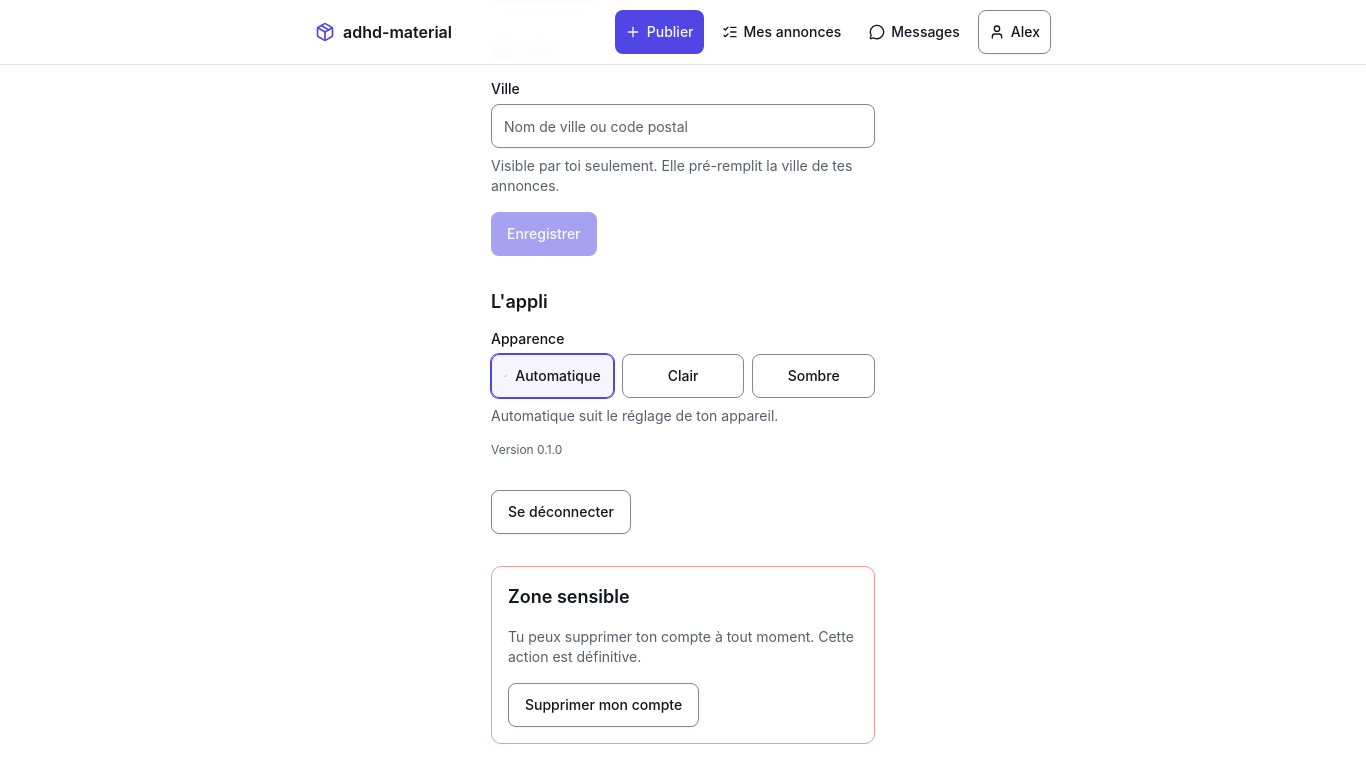
Test: flux email désactivé (Google uniquement) › ré-authentification : Google seulement, pas d'option code
(page scrolled)
Click the button "Supprimer mon compte" at (604, 705), box [508,683,699,727]
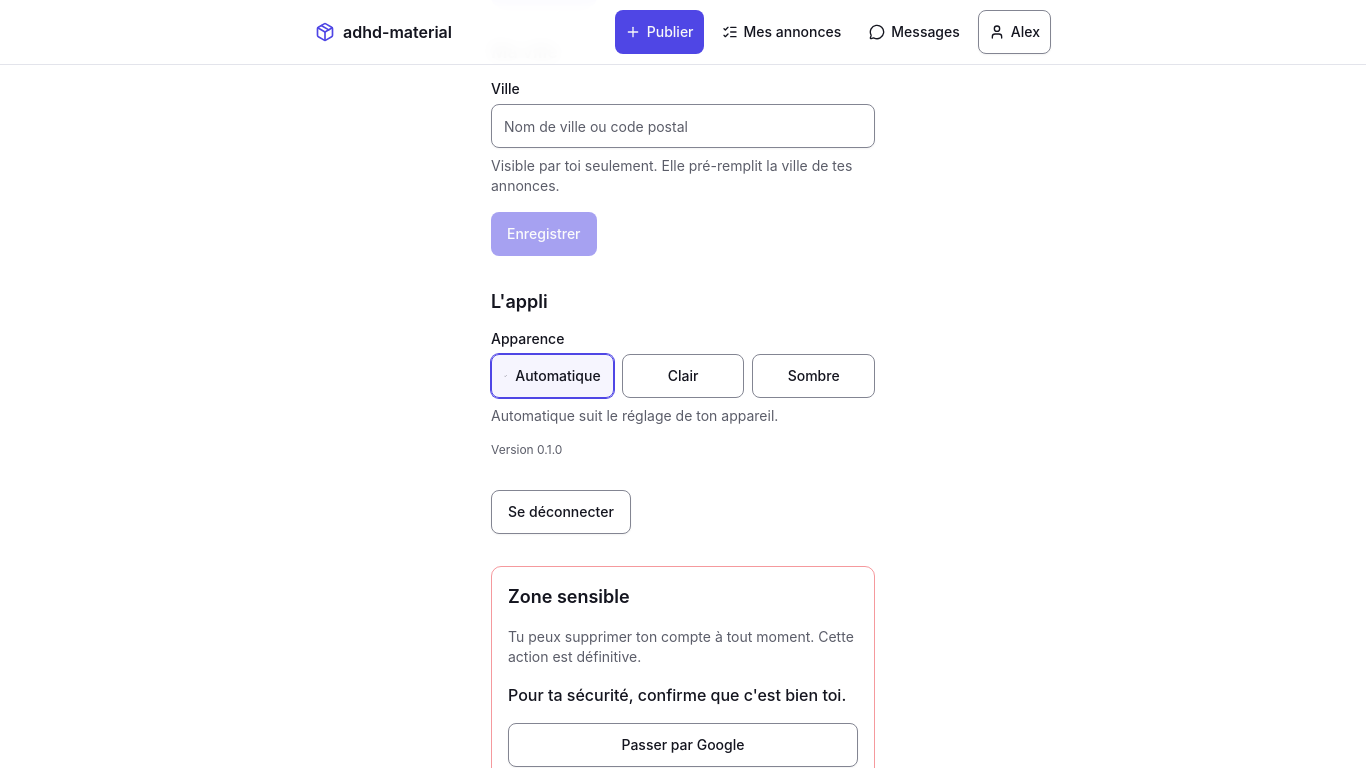
Now the button "Passer par Google" is shown, box [508,723,858,767]
